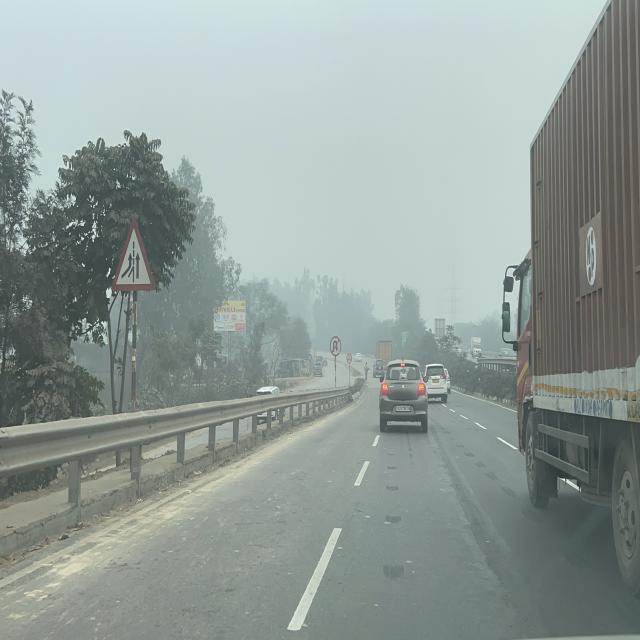NO_PARKING: (346, 353, 352, 364)
U_TURN_PROHIBITED: (330, 336, 341, 356)
WARNING: (111, 216, 156, 293)
